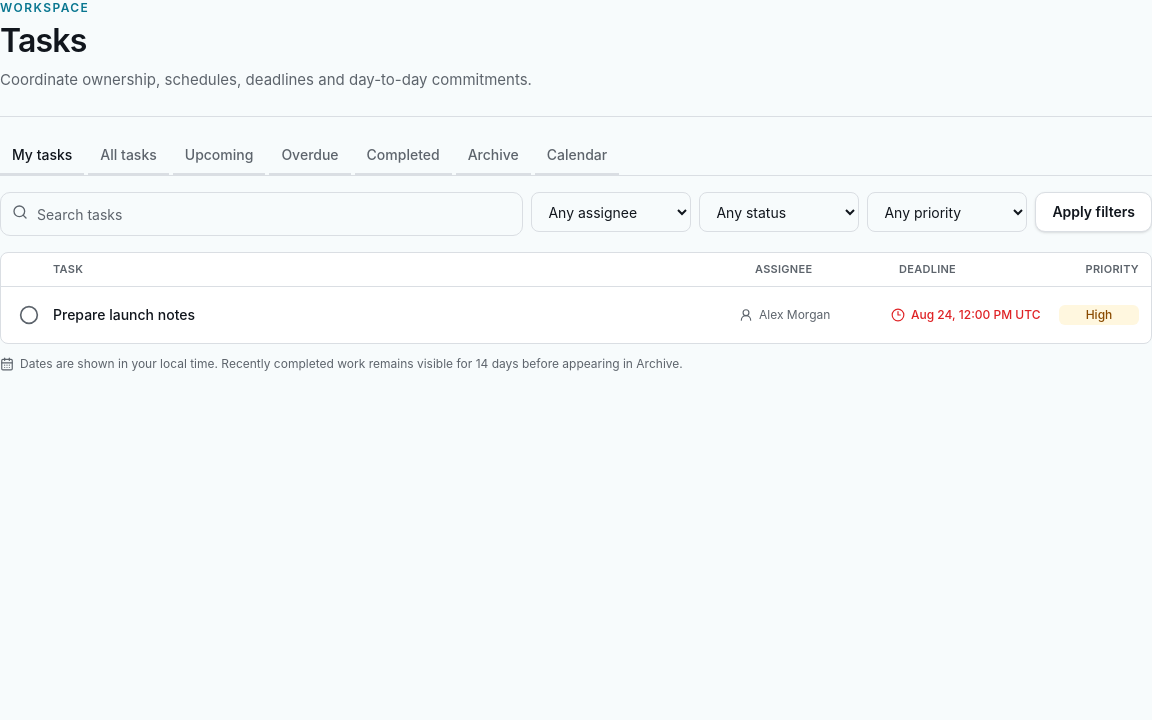
it: task workspace › keeps VIEWER controls read-only while retaining task detail visibility
Step 1. Click the button "Prepare launch notes" → (124, 314), box [53,305,731,325]
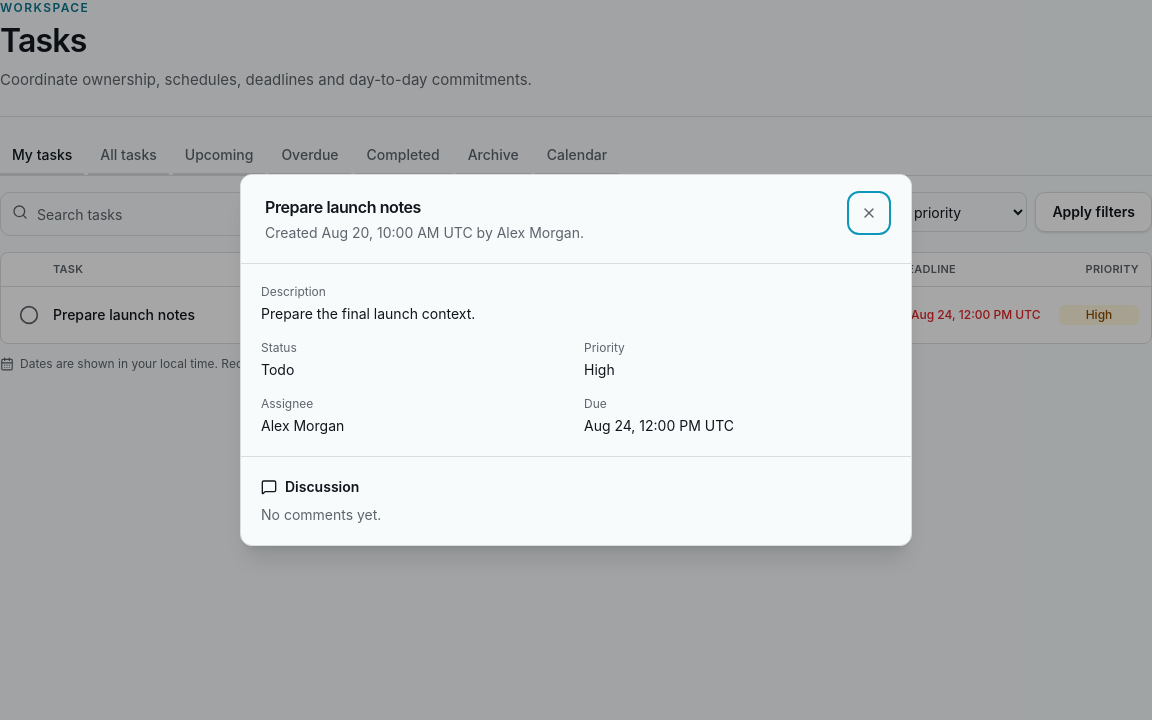
Check: the dialog "Prepare launch notes" is shown, box [240,174,912,546]
Check: the text "Prepare the final launch context." is shown, box [261,305,475,322]
